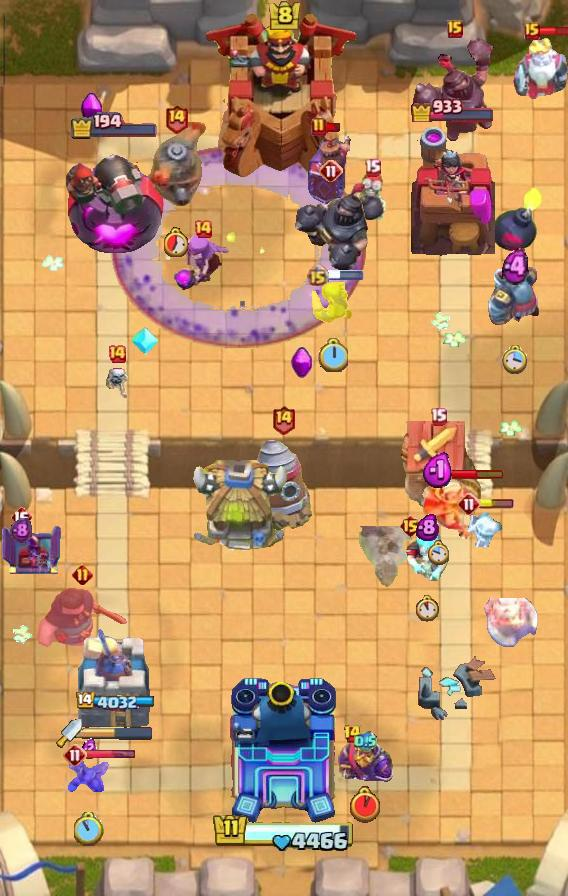baby-dragon: (490, 185, 544, 253)
bar: (75, 623, 153, 731)
bat: (464, 506, 510, 550)
clock: (212, 812, 356, 854)
dark-prince: (131, 122, 221, 208)
electro-spirit: (422, 452, 455, 489), (503, 248, 530, 286), (416, 513, 439, 541), (10, 517, 32, 544), (354, 731, 377, 753), (83, 737, 98, 759)
elixir: (350, 785, 380, 822), (318, 338, 348, 372), (74, 812, 104, 846), (502, 345, 528, 375), (163, 227, 188, 257), (414, 594, 440, 621), (427, 540, 449, 566)
elixir-golem-big: (305, 124, 355, 206)
elixir-golem-small: (487, 265, 543, 325)
emote: (451, 468, 504, 480), (84, 749, 136, 760), (326, 270, 364, 280), (538, 25, 568, 37), (478, 499, 514, 509), (325, 122, 343, 133)
firecracker-evolution: (337, 733, 393, 783)
fisherman: (356, 527, 414, 589)
heal-spirit: (103, 364, 131, 400)
ice-golem: (355, 170, 389, 226)
ice-spirit-evolution-symbol: (0, 523, 64, 577)
king-tower: (205, 11, 363, 181), (228, 676, 340, 826)
king-tower-bar: (82, 726, 154, 740)
magic-archer: (253, 437, 313, 531)
mortar: (403, 523, 451, 583)
mortar-evolution: (512, 36, 568, 102)
pad_2: (130, 326, 160, 356)
prince: (188, 460, 290, 556)
queen-tower: (411, 122, 495, 256)
rascal-girl: (171, 232, 235, 294)
rocket: (111, 145, 367, 349)
royal-delivery: (67, 754, 111, 800)
royal-giant: (484, 598, 540, 648)
royal-guardian: (409, 31, 501, 145), (290, 182, 372, 274)
royal-hog: (34, 585, 130, 651)
selected: (69, 112, 158, 140), (410, 95, 496, 122), (74, 692, 154, 712)
skeleton-king: (422, 476, 494, 544)
skeleton-king-skill: (79, 92, 105, 126), (290, 346, 313, 380)
sparky: (395, 420, 481, 518)
text: (163, 102, 188, 133), (272, 405, 296, 435), (319, 159, 343, 183), (457, 492, 481, 516), (398, 514, 422, 538), (63, 743, 87, 767), (306, 265, 329, 288), (10, 505, 32, 529), (71, 563, 92, 585), (193, 219, 213, 239), (107, 344, 127, 364), (342, 724, 361, 744), (430, 407, 447, 426), (311, 117, 327, 137), (364, 159, 381, 177), (447, 20, 463, 38), (524, 22, 540, 40)
tower-bar: (64, 138, 164, 256)
zap: (309, 280, 357, 324)
